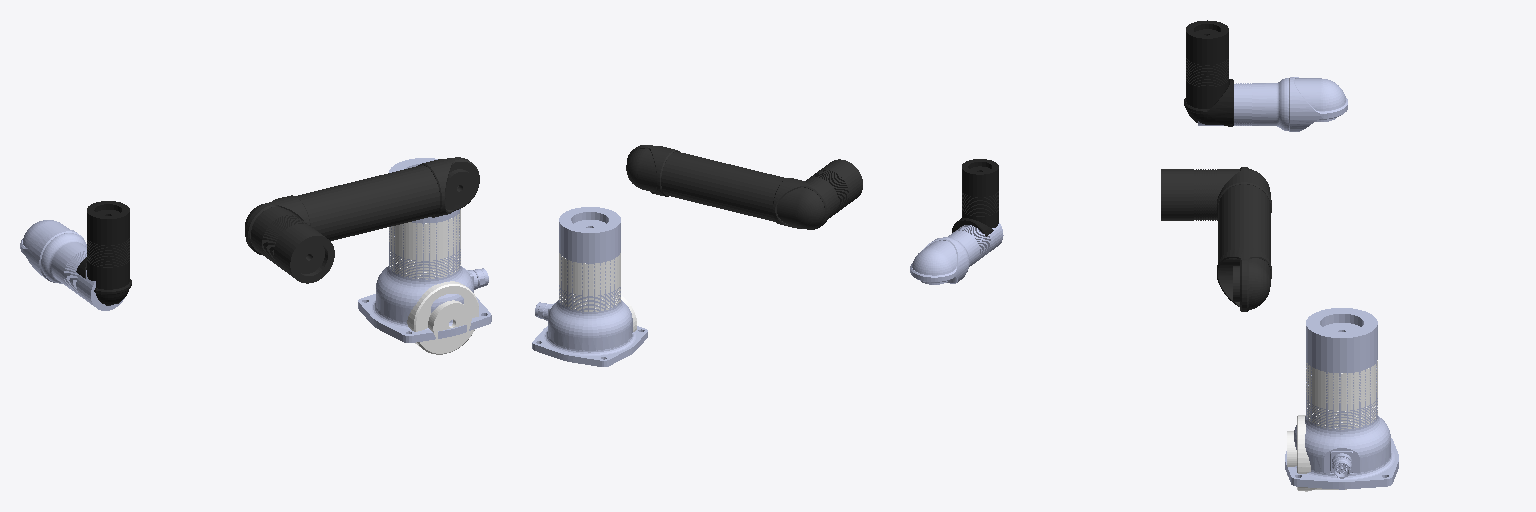
The robot description file, URDF, robot "rozum_pulse_75":
<?xml version="1.0" encoding="utf-8"?>

<robot
  name="rozum_pulse_75">
  <link
    name="base_link">
    <inertial>
      <origin
        xyz="0.0 0.0 0.0"
        rpy="0 0 0" />
      <mass
        value="0.000000" />
      <inertia
        ixx="0.000000"
        ixy="0.000000"
        ixz="0.000000"
        iyy="0.000000"
        iyz="0.000000"
        izz="0.000000" />
    </inertial>
    <visual>
      <origin
        xyz="0 0 0"
        rpy="0 0 0" />
      <geometry>
        <mesh
          filename="package://ros_solid/meshes/base_link.STL" />
      </geometry>
      <material
        name="">
        <color
          rgba="0.79216 0.81961 0.93333 1" />
      </material>
    </visual>
    <collision>
      <origin
        xyz="0 0 0"
        rpy="0 0 0" />
      <geometry>
        <mesh
          filename="package://ros_solid/meshes/base_link.STL" />
      </geometry>
    </collision>
  </link>
  <link
    name="link1">
    <inertial>
      <origin
        xyz="0.000000 -0.048113 -0.005173"
        rpy="0 0 0" />
      <mass
        value="2.635479" />
      <inertia
        ixx="0.00574463"
        ixy="0.00000001"
        ixz="0.000000"
        iyy="0.00314996"
        iyz="-0.0006622"
        izz="0.00545542" />
    </inertial>
    <visual>
      <origin
        xyz="0 0 0"
        rpy="0 0 0" />
      <geometry>
        <mesh
          filename="package://ros_solid/meshes/link1.STL" />
      </geometry>
      <material
        name="">
        <color
          rgba="1 1 1 1" />
      </material>
    </visual>
    <collision>
      <origin
        xyz="0 0 0"
        rpy="0 0 0" />
      <geometry>
        <mesh
          filename="package://ros_solid/meshes/link1.STL" />
      </geometry>
    </collision>
  </link>
  <joint
    name="joint1"
    type="revolute">
    <origin
      xyz="0.0 0.0 0.0"
      rpy="0 0 0" />
    <motor_params gear_ratio="100"
     rotor_inertia="0.000108" />
    <parent
      link="base_link" />
    <child
      link="link1" />
    <axis
      xyz="0 0 1" />
    <limit
      lower="-6.28"
      upper="6.28"
      effort="10"
      velocity="10" />
  </joint>
  <link
    name="link2">
    <inertial>
      <origin
        xyz="-0.18221343 0.000000 0.09945403"
        rpy="0 0 0" />
      <mass
        value="2.03639714" />
      <inertia
        ixx="0.00328492"
        ixy="0.000000"
        ixz="0.00467611"
        iyy="0.03067676"
        iyz="0.000000"
        izz="0.02924741" />
    </inertial>
    <visual>
      <origin
        xyz="0 0 0"
        rpy="0 0 0" />
      <geometry>
        <mesh
          filename="package://ros_solid/meshes/link2.STL" />
      </geometry>
      <material
        name="">
        <color
          rgba="0.24314 0.24314 0.24314 1" />
      </material>
    </visual>
    <collision>
      <origin
        xyz="0 0 0"
        rpy="0 0 0" />
      <geometry>
        <mesh
          filename="package://ros_solid/meshes/link2.STL" />
      </geometry>
    </collision>
  </link>
  <joint
    name="joint2"
    type="revolute">
    <origin
      xyz="0.0 0.0 0.215"
      rpy="1.5707963 0 0" />
    <motor_params gear_ratio="100"
     rotor_inertia="0.000108" />
    <parent
      link="link1" />
    <child
      link="link2" />
    <axis
      xyz="0 0 1" />
    <limit
      lower="-0.6108652382"
      upper="3.76991118431"
      effort="10"
      velocity="10" />
  </joint>
  <link
    name="link3">
    <inertial>
      <origin
        xyz="-0.19839838 0.000000 0.04913607"
        rpy="0 0 0" />
      <mass
        value="1.60265591" />
      <inertia
        ixx="0.00237088"
        ixy="-0.00000001"
        ixz="-0.0027249"
        iyy="0.01624523"
        iyz="0.00000000"
        izz="0.01492074" />
    </inertial>
    <visual>
      <origin
        xyz="0 0 0"
        rpy="0 0 0" />
      <geometry>
        <mesh
          filename="package://ros_solid/meshes/link3.STL" />
      </geometry>
      <material
        name="">
        <color
          rgba="0.24314 0.24314 0.24314 1" />
      </material>
    </visual>
    <collision>
      <origin
        xyz="0 0 0"
        rpy="0 0 0" />
      <geometry>
        <mesh
          filename="package://ros_solid/meshes/link3.STL" />
      </geometry>
    </collision>
  </link>
  <joint
    name="joint3"
    type="revolute">
    <origin
      xyz="-0.286 -0.0 0.119"
      rpy="0 0 0" />
    <motor_params gear_ratio="100"
     rotor_inertia="0.000170" />
    <parent
      link="link2" />
    <child
      link="link3" />
    <axis
      xyz="0 0 1" />
    <limit
      lower="-2.79252680319"
      upper="2.79252680319"
      effort="10"
      velocity="10" />
  </joint>
  <link
    name="link4">
    <inertial>
      <origin
        xyz="0.000000 -0.07193817 0.1201976"
        rpy="0 0 0" />
      <mass
        value="0.83986351" />
      <inertia
        ixx="0.00167115"
        ixy="0.000000"
        ixz="0.000000"
        iyy="0.00037091"
        iyz="-0.00003977"
        izz="0.00171639" />
    </inertial>
    <visual>
      <origin
        xyz="0 0 0"
        rpy="0 0 0" />
      <geometry>
        <mesh
          filename="package://ros_solid/meshes/link4.STL" />
      </geometry>
      <material
        name="">
        <color
          rgba="0.79216 0.81961 0.93333 1" />
      </material>
    </visual>
    <collision>
      <origin
        xyz="0 0 0"
        rpy="0 0 0" />
      <geometry>
        <mesh
          filename="package://ros_solid/meshes/link4.STL" />
      </geometry>
    </collision>
  </link>
  <joint
    name="joint4"
    type="revolute">
    <origin
      xyz="-0.26 -0.0 -0.093"
      rpy="0 0 0" />
    <motor_params gear_ratio="100"
     rotor_inertia="0.000170" />
    <parent
      link="link3" />
    <child
      link="link4" />
    <axis
      xyz="0 0 1" />
    <limit
      lower="-4.41568300755"
      upper="4.38077642251"
      effort="10"
      velocity="10" />
  </joint>
  <link
    name="link5">
    <inertial>
      <origin
        xyz="0.000000 0.03592275 0.1667588"
        rpy="0 0 0" />
      <mass
        value="0.69108633" />
      <inertia
        ixx="0.00074292"
        ixy="0"
        ixz="0"
        iyy="0.00029829"
        iyz="0.00007183"
        izz="0.00071953" />
    </inertial>
    <visual>
      <origin
        xyz="0 0 0"
        rpy="0 0 0" />
      <geometry>
        <mesh
          filename="package://ros_solid/meshes/link5.STL" />
      </geometry>
      <material
        name="">
        <color
          rgba="0.18039 0.18039 0.18039 1" />
      </material>
    </visual>
    <collision>
      <origin
        xyz="0 0 0"
        rpy="0 0 0" />
      <geometry>
        <mesh
          filename="package://ros_solid/meshes/link5.STL" />
      </geometry>
    </collision>
  </link>
  <joint
    name="joint5"
    type="revolute">
    <origin
      xyz="0.0 0.0 0.093"
      rpy="1.5707963 0 0" />
    <motor_params gear_ratio="100"
     rotor_inertia="0.0000083" />
    <parent
      link="link4" />
    <child
      link="link5" />
    <axis
      xyz="0 0 1" />
    <limit
      lower="-6.28"
      upper="6.28"
      effort="10"
      velocity="10" />
  </joint>
  <link
    name="link6">
    <inertial>
      <origin
        xyz="0.00171740 -0.00095207 0.02"
        rpy="0 0 0" />
      <mass
        value="0.20018162" />
      <inertia
        ixx="0.00008258"
        ixy="-0.00000345"
        ixz="0.00000022"
        iyy="0.00007742"
        iyz="-0.00000061"
        izz="0.00011673" />
    </inertial>
    <visual>
      <origin
        xyz="0 0 0"
        rpy="0 0 0" />
      <geometry>
        <mesh
          filename="package://ros_solid/meshes/link6.STL" />
      </geometry>
      <material
        name="">
        <color
          rgba="0.24314 0.24314 0.24314 1" />
      </material>
    </visual>
    <collision>
      <origin
        xyz="0 0 0"
        rpy="0 0 0" />
      <geometry>
        <mesh
          filename="package://ros_solid/meshes/link6.STL" />
      </geometry>
    </collision>
  </link>
  <joint
    name="joint6"
    type="revolute">
    <origin
      xyz="0.0 0.0 0.1681"
      rpy="-1.5707963 0 0" />
    
    <motor_params gear_ratio="100"
     rotor_inertia="0.0000083" />
    <parent
      link="link5" />
    <child
      link="link6" />
    <axis
      xyz="0 0 1" />
    <limit
      lower="-6.28"
      upper="6.28"
      effort="10"
      velocity="10" />
  </joint>

  <link
    name="tool_frame">

  </link>


  <joint
    name="joint7"
    type="fixed">
    <origin
      xyz="0.0 0.0 0.1196"
      rpy="0 0 0" />
    <parent
      link="link6" />
    <child
      link="tool_frame" />
  </joint>
</robot>

--- What the picture shows (computed from the rendered views, not written in the file) ---
The picture shows the robot from 3 angles, left to right: view 1: azimuth 30°, elevation 25°; view 2: azimuth 150°, elevation 25°; view 3: azimuth 270°, elevation 25°; orthographic projection.
Robot: rozum_pulse_75 — 8 links, 7 joints (6 revolute, 1 fixed); root link base_link; default pose: every joint at zero.
Visible links, largest first — view 1: link3, base_link, link1, link5, link4; view 2: link3, base_link, link4, link5, link1; view 3: base_link, link3, link4, link5, link1.
Boxes of the visible links, bbox=[...] form: link3: bbox=[245, 157, 479, 283]; base_link: bbox=[358, 158, 491, 342]; link1: bbox=[389, 210, 478, 354]; link5: bbox=[76, 201, 131, 305]; link4: bbox=[20, 220, 124, 310]; link3: bbox=[626, 145, 862, 229]; base_link: bbox=[532, 207, 647, 366]; link4: bbox=[910, 223, 1003, 284]; link5: bbox=[952, 159, 998, 236]; link1: bbox=[559, 253, 636, 331]; base_link: bbox=[1285, 308, 1398, 489]; link3: bbox=[1161, 167, 1271, 311]; link4: bbox=[1198, 77, 1347, 131]; link5: bbox=[1184, 20, 1233, 126]; link1: bbox=[1287, 360, 1377, 491].
Size in the robot's own frame: 0.6644 by 0.2912 by 0.3648 metres.
Meshes: 7 distinct files referenced, 5 mesh visuals loaded (5 binary STL); not drawn: 2 (reference not matched to a file when rendering).